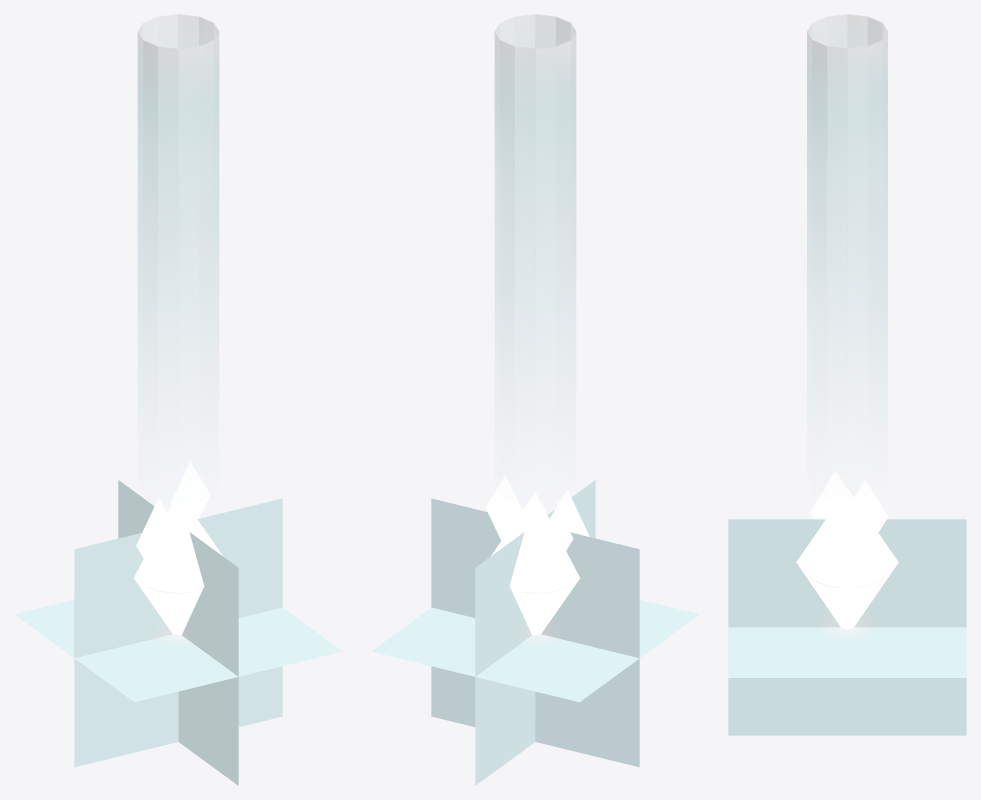
File: fx_comet_asc.glb
3 views of the same model, side by side, from view 1: azimuth 30°, elevation 25°; view 2: azimuth 150°, elevation 25°; view 3: azimuth 270°, elevation 25° (orthographic).
Parts seen in each view (by area): view 1: fx_comet_glow, fx_comet_trail, fx_comet_ice; view 2: fx_comet_glow, fx_comet_trail, fx_comet_ice; view 3: fx_comet_glow, fx_comet_trail, fx_comet_ice.
Boxes of the visible parts, left/top/right/bottom form: fx_comet_glow: left=14, top=480, right=342, bottom=785; fx_comet_trail: left=137, top=14, right=219, bottom=593; fx_comet_ice: left=134, top=462, right=223, bottom=635; fx_comet_glow: left=371, top=480, right=699, bottom=785; fx_comet_trail: left=494, top=14, right=576, bottom=593; fx_comet_ice: left=485, top=475, right=589, bottom=635; fx_comet_glow: left=728, top=519, right=966, bottom=735; fx_comet_trail: left=807, top=14, right=887, bottom=587; fx_comet_ice: left=796, top=471, right=898, bottom=629.
Bounding box in the file's own units: 2 × 6.52 × 2.
Materials: 3 (2 with a texture image).
